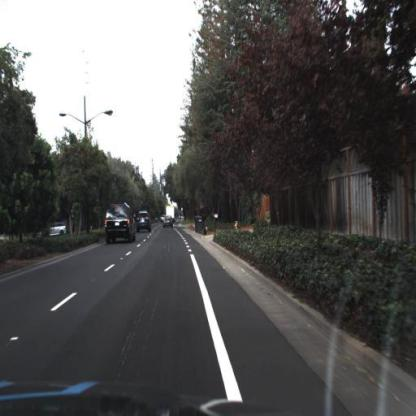car: (102, 199, 137, 250), (138, 208, 156, 236), (162, 213, 174, 231), (165, 206, 177, 223)
truck: (165, 203, 178, 229)
